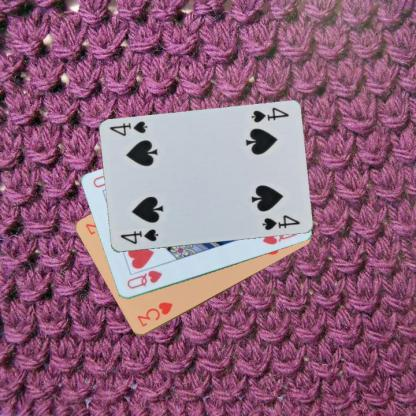3h: (134, 299, 174, 328)
4s: (117, 226, 159, 245), (249, 105, 290, 124)
Qh: (124, 268, 164, 290)
